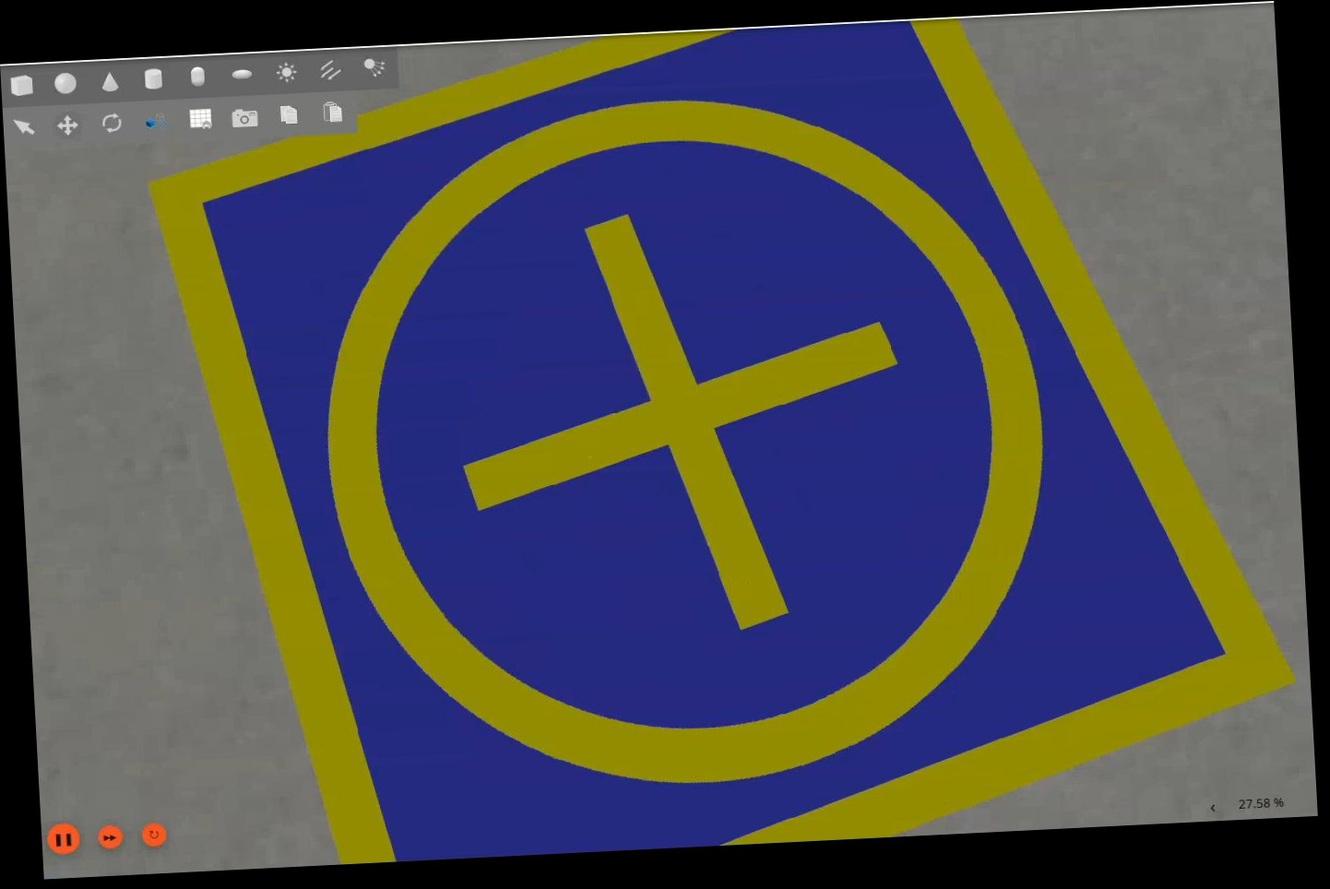small_base: (139, 2, 1303, 872)
